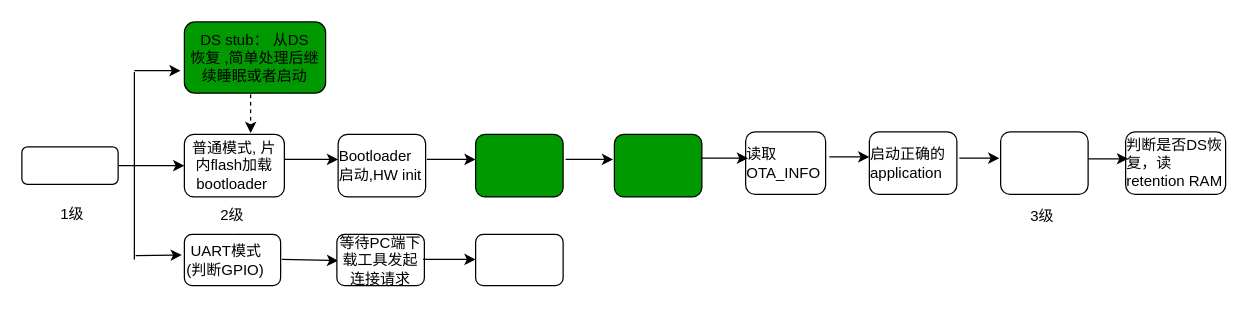
Image size: 1248x309. Some labels were removed from this diagram. The shapes that lost their labels are listed below. From the top down, each one's centre as x and y in pixels, then its label:
the point at 69,165: 芯片内 ROM启动
the point at 518,165: 安全处理：flash 解密，secure boot
the point at 657,165: 读取分区信息表 Partition_INFO
the point at 1043,162: 应用启动 流程
the point at 518,259: 下载 bootloader,应用程序
